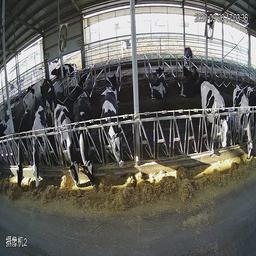cow: (50, 102, 83, 201), (97, 82, 129, 184), (199, 73, 229, 168), (70, 89, 95, 192), (231, 77, 254, 169), (13, 101, 32, 195), (29, 103, 47, 198), (143, 56, 170, 105), (176, 60, 200, 102), (28, 70, 58, 101), (55, 52, 79, 86), (180, 45, 195, 63)
